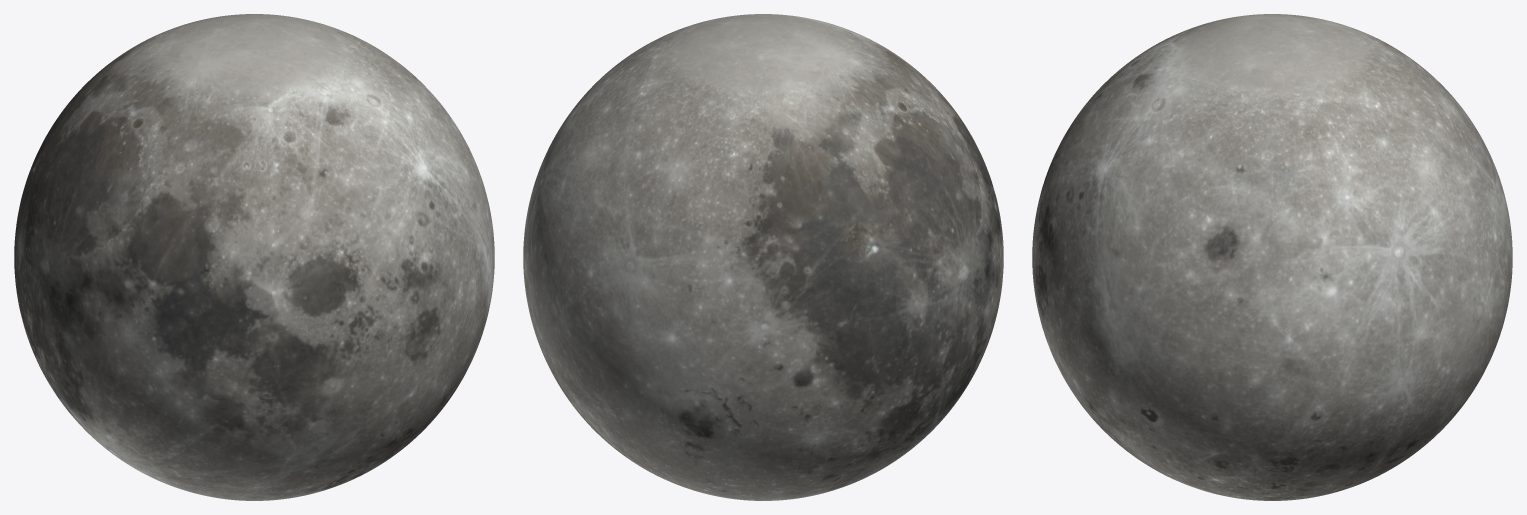
Rendered from moon.glb.
The picture shows the model from 3 angles, left to right: view 1: azimuth 30°, elevation 25°; view 2: azimuth 150°, elevation 25°; view 3: azimuth 270°, elevation 25°; orthographic projection.
Parts seen in each view (by area): view 1: pSphere1; view 2: pSphere1; view 3: pSphere1.
Boxes of the visible parts, bbox=[...] form: pSphere1: bbox=[14, 14, 494, 500]; pSphere1: bbox=[523, 14, 1003, 500]; pSphere1: bbox=[1032, 14, 1512, 500].
Bounding box in the file's own units: 14.38 × 14.65 × 14.38.
Materials: 1 (1 with a texture image).
